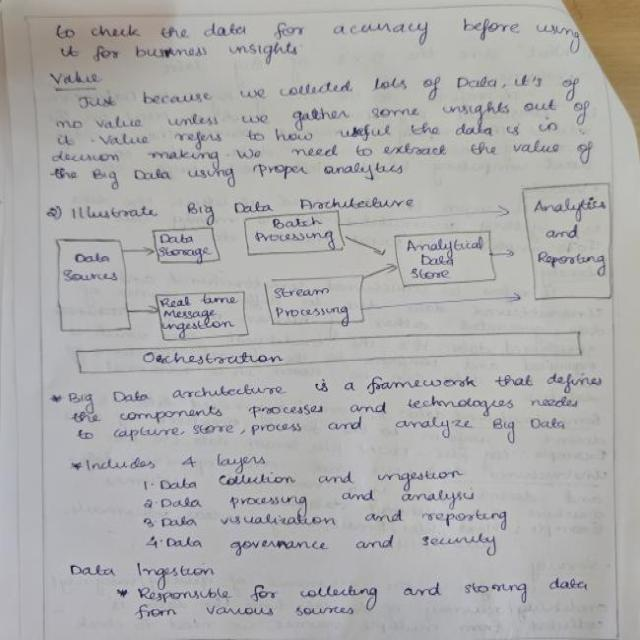Figure Detection - v3 Dataset Version2: (45, 179, 620, 378)
